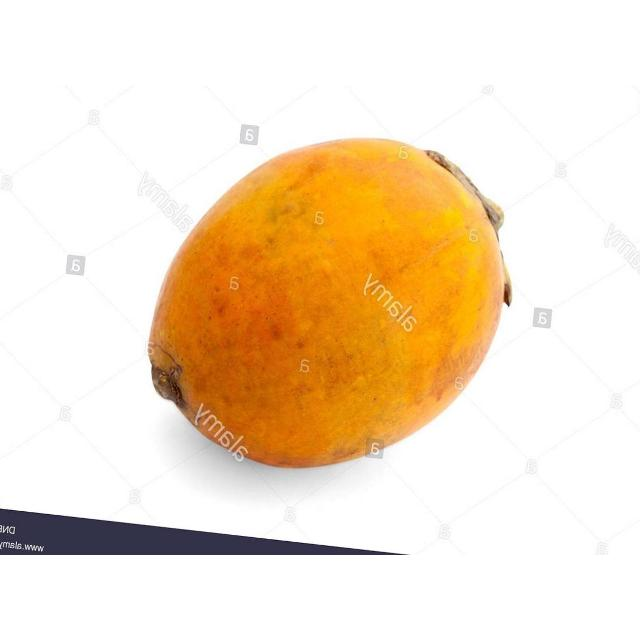good: (146, 139, 511, 470)
